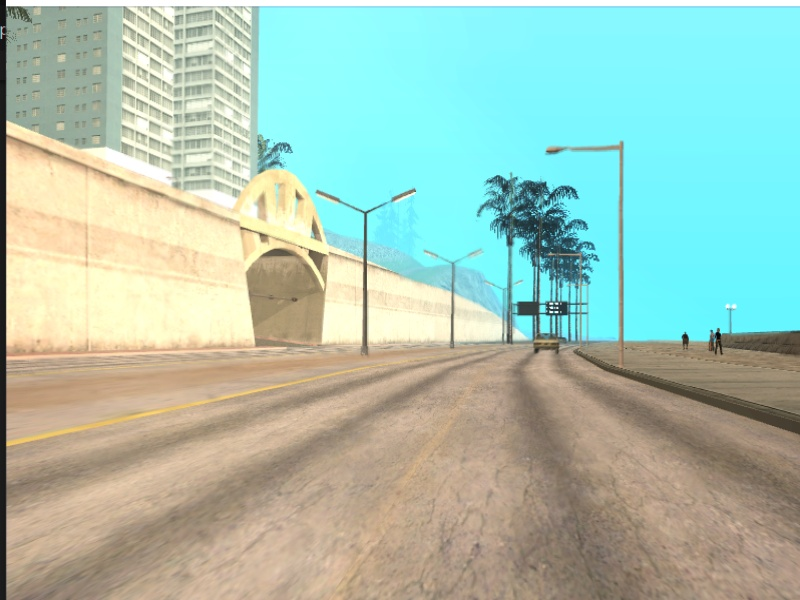person: (716, 327, 725, 359), (707, 327, 717, 351), (681, 329, 690, 351)
pole: (612, 142, 635, 370), (355, 208, 375, 359), (573, 251, 588, 349), (447, 260, 459, 349)
tree: (505, 244, 514, 341)
vehicle: (531, 332, 564, 353)
